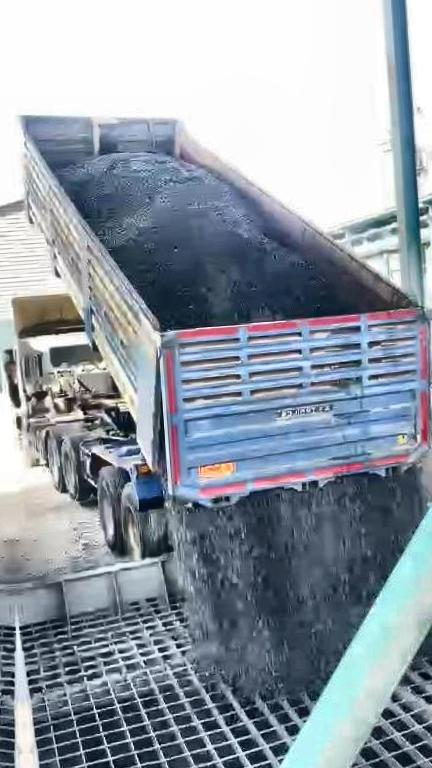gravel: (170, 470, 426, 695), (61, 154, 367, 328), (421, 586, 432, 653)
